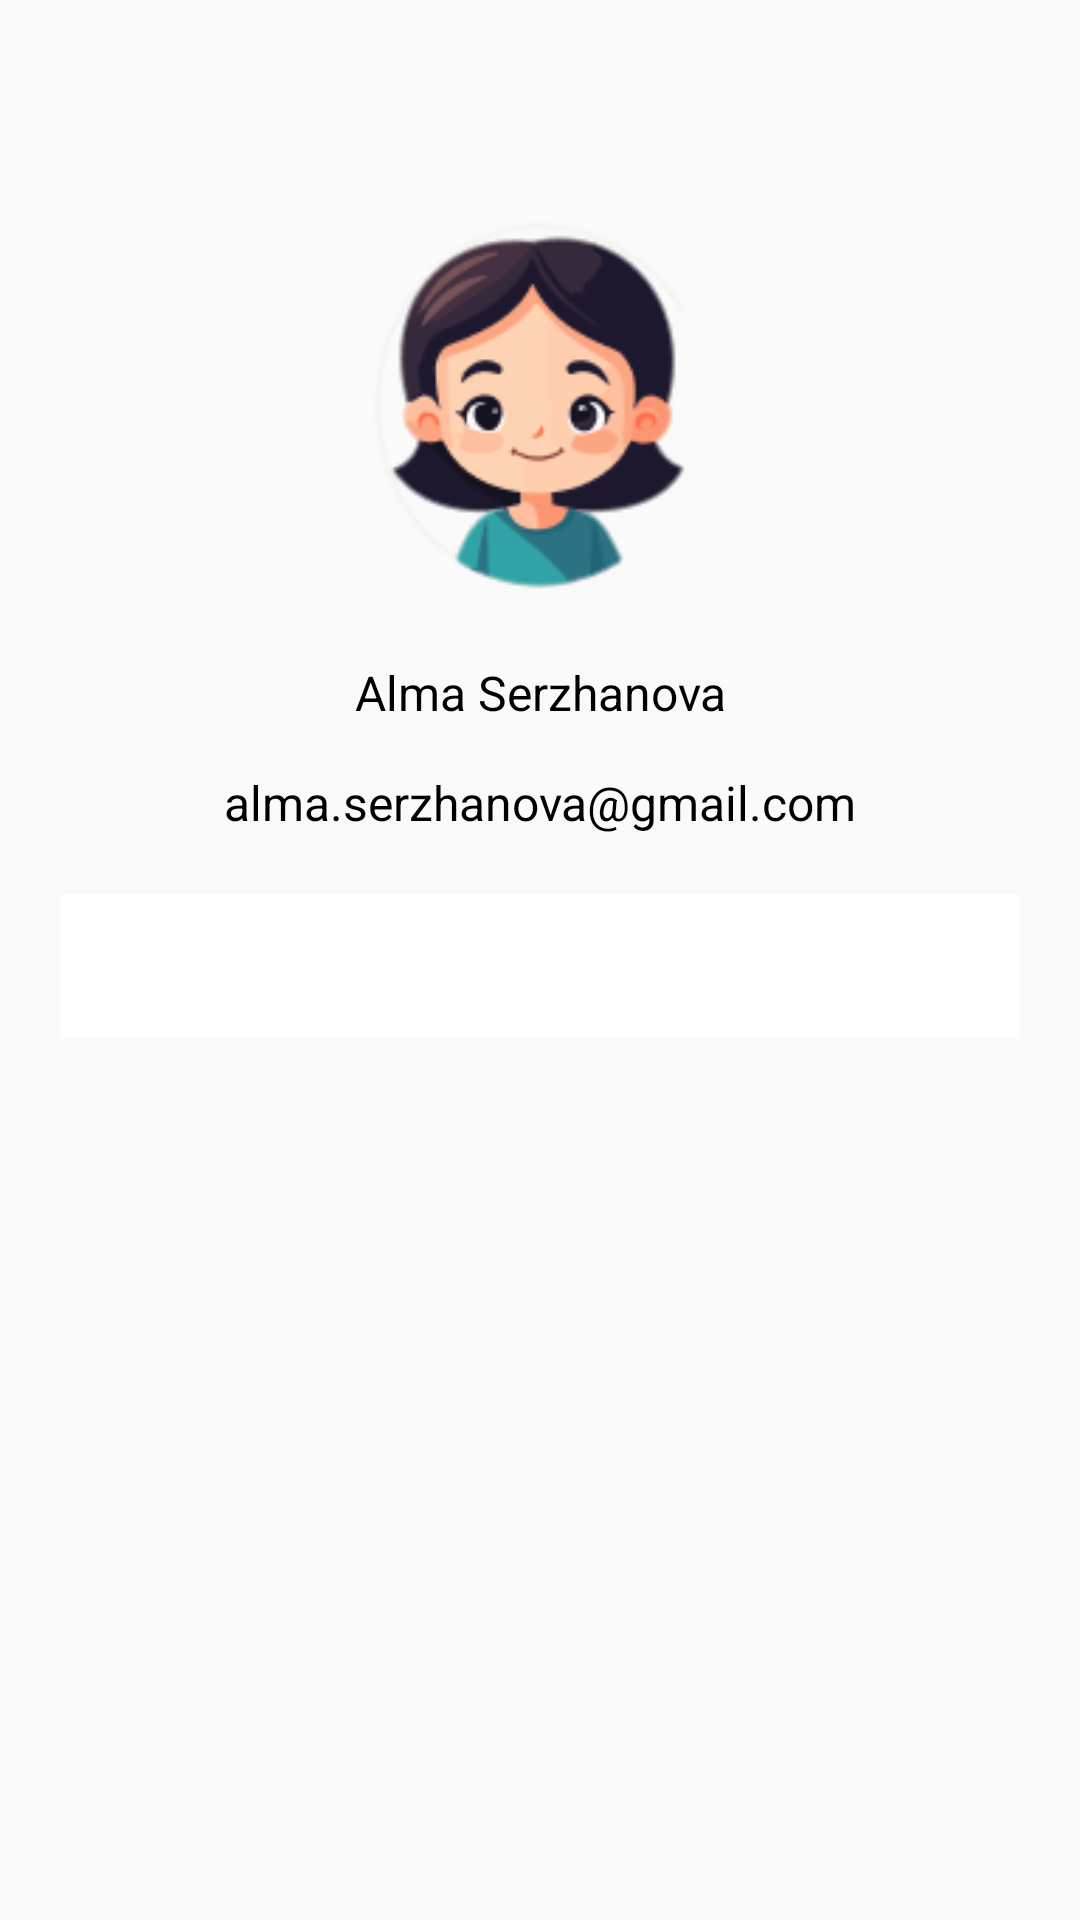

Locate icon controls on the screen. Image size 1080w x 1920h, boxes as (x1, y1, x2, y2).
ava: (392, 236, 684, 588)
